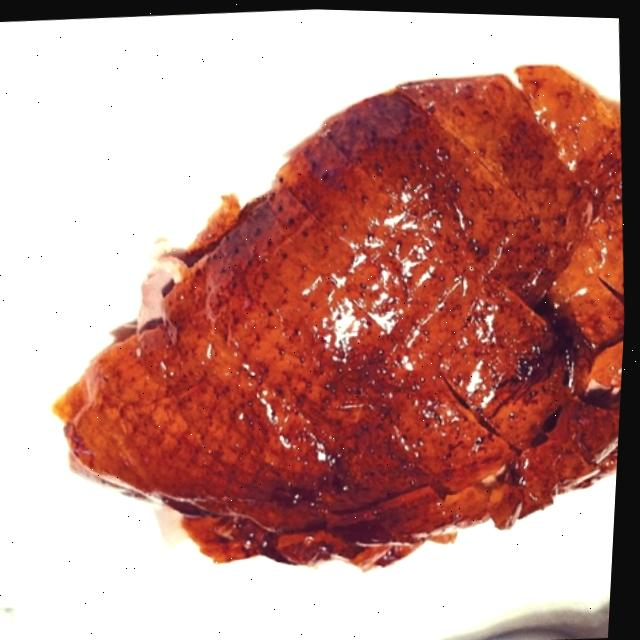烧串烤肉: (22, 45, 638, 620)
